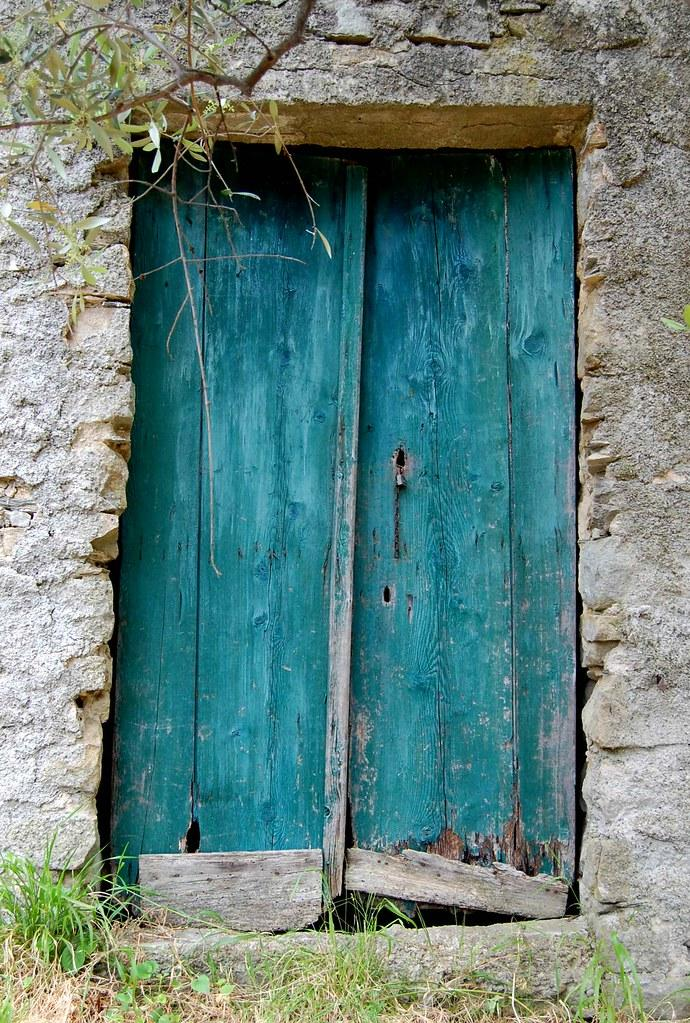door: (110, 141, 581, 929)
